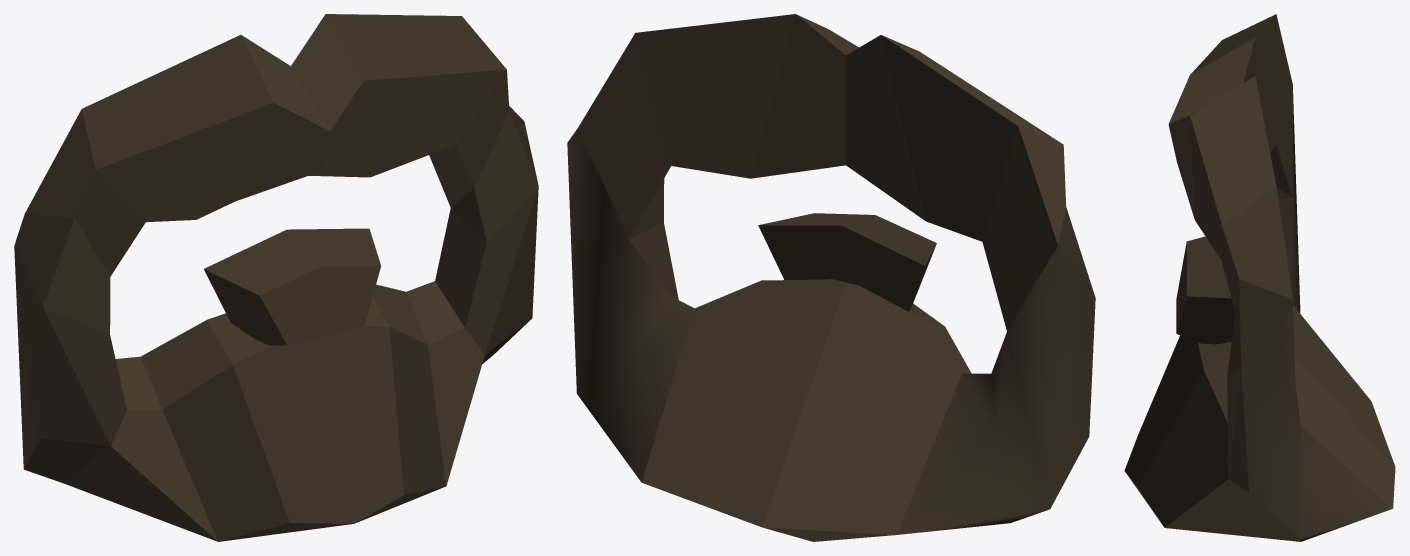
Rendered from SM_Chr_Attach_Beard_10.fbx.
3 renders of one model, left to right at view 1: azimuth 30°, elevation 25°; view 2: azimuth 150°, elevation 25°; view 3: azimuth 270°, elevation 25°, orthographic. The views are drawn at different scales.
Visible parts, largest first — view 1: SM_Chr_Attach_Beard_10; view 2: SM_Chr_Attach_Beard_10; view 3: SM_Chr_Attach_Beard_10.
Boxes of the visible parts, <box> form: SM_Chr_Attach_Beard_10: <box>14,14,538,541</box>; SM_Chr_Attach_Beard_10: <box>567,14,1095,541</box>; SM_Chr_Attach_Beard_10: <box>1124,14,1395,541</box>.
Size of the model in its own units: 14.23 by 13.21 by 7.08.
